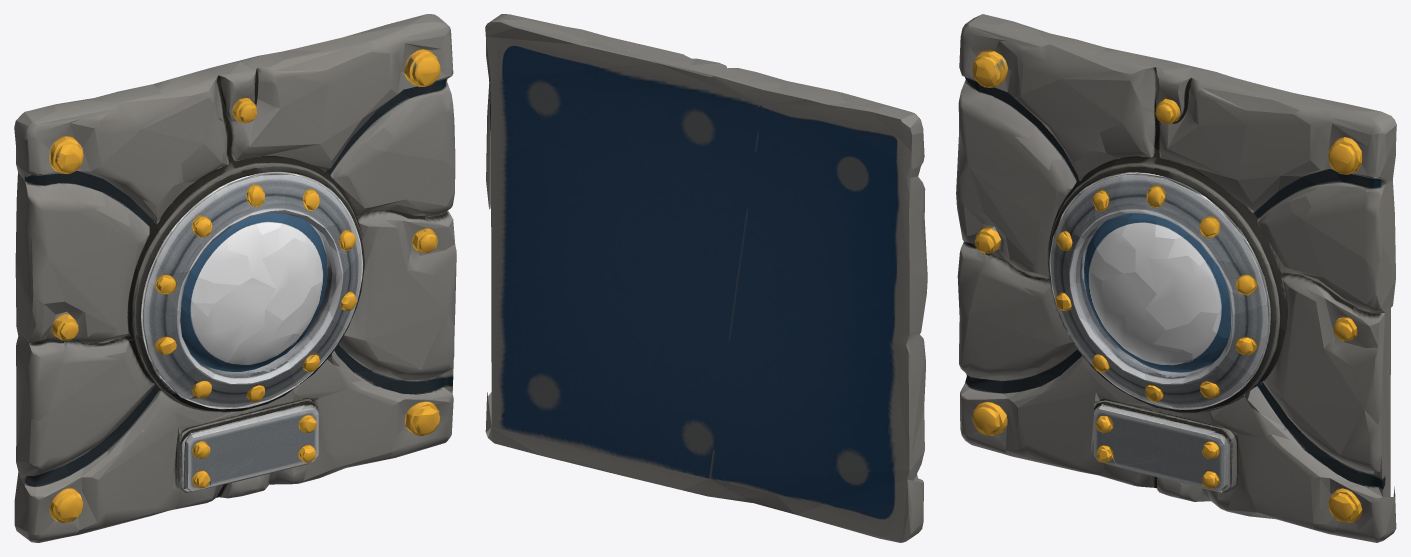
3 views of the same model, side by side, from view 1: azimuth 30°, elevation 25°; view 2: azimuth 150°, elevation 25°; view 3: azimuth 330°, elevation 25° (orthographic).
Visible parts, largest first — view 1: output_unwrapped; view 2: output_unwrapped; view 3: output_unwrapped.
Part boxes in pixels (x1,y1,x2,y2): output_unwrapped: (14, 14, 456, 542); output_unwrapped: (485, 14, 927, 542); output_unwrapped: (956, 14, 1396, 542).
Bounding box in the file's own units: 1.9 × 1.82 × 0.3044.
Materials: 1 (1 with a texture image).
